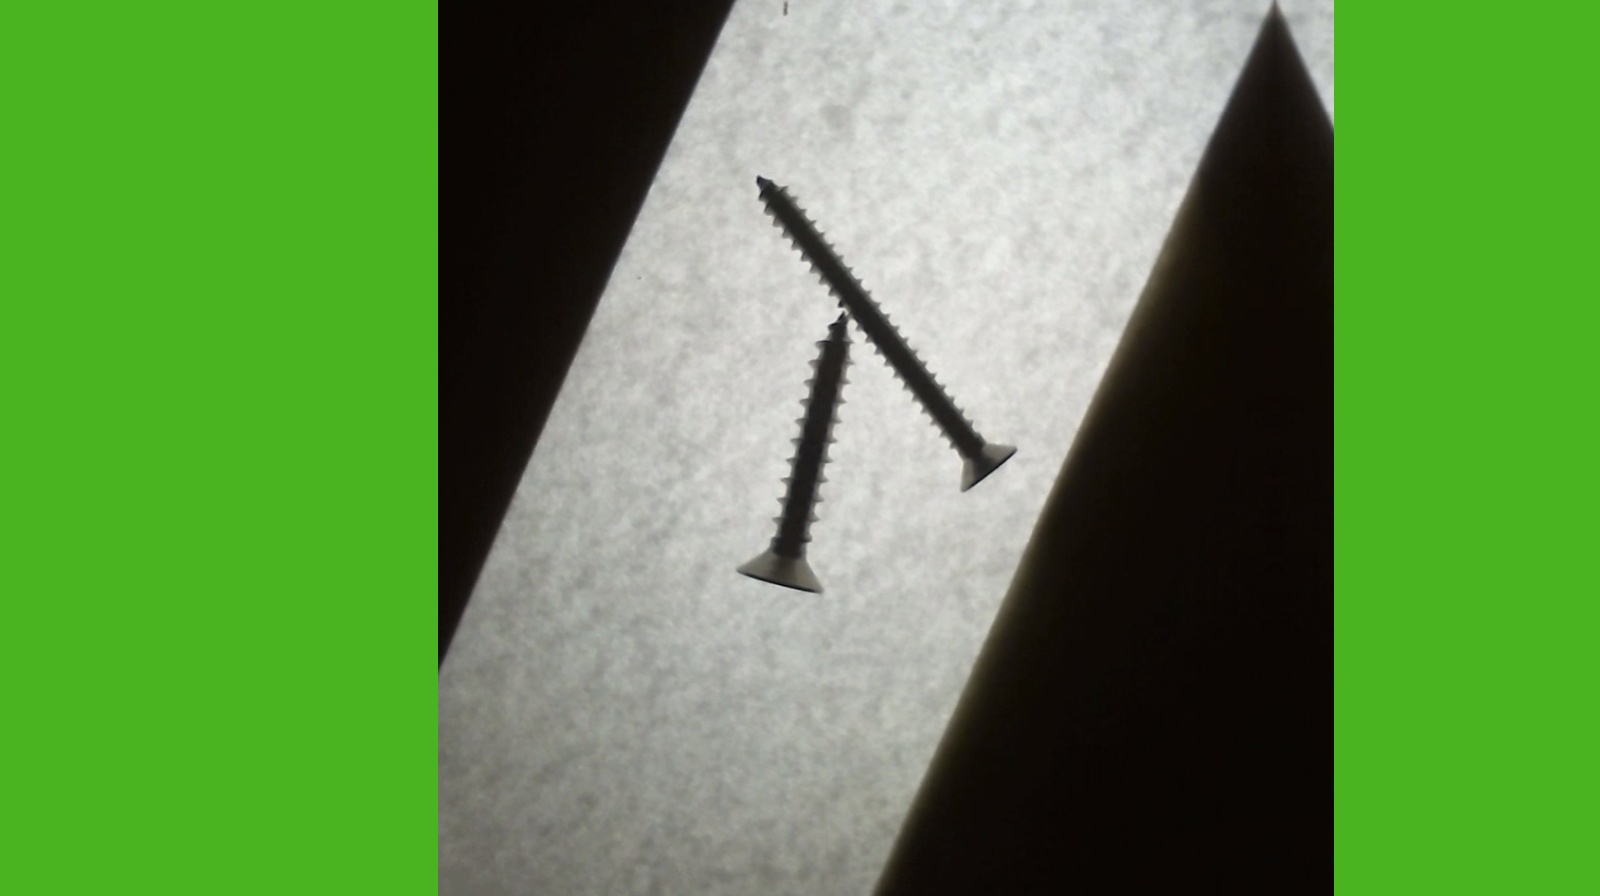S001: (732, 316, 849, 598)
S002: (751, 169, 1023, 491)
